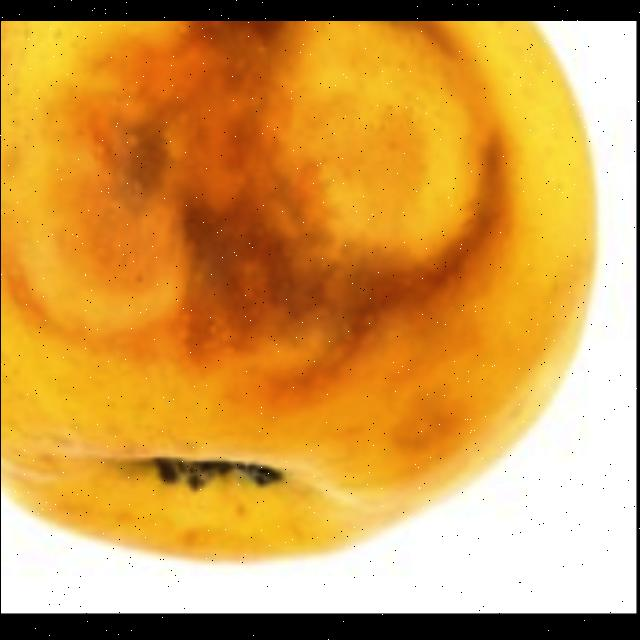Apel Tidak Segar: (0, 21, 588, 565)
